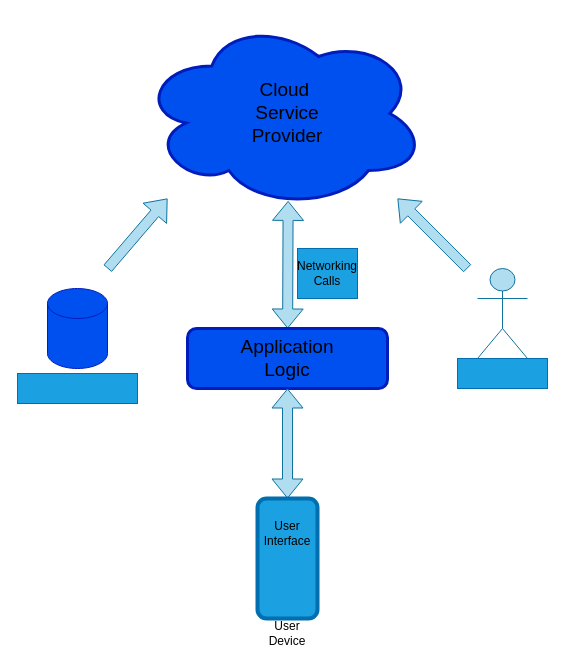
Image size: 565x666. Some labels were removed from this diagram. The centre of each missing label's shape, as x and y in pixels:
Authentication: (502,313)
Data Storage: (77,388)
